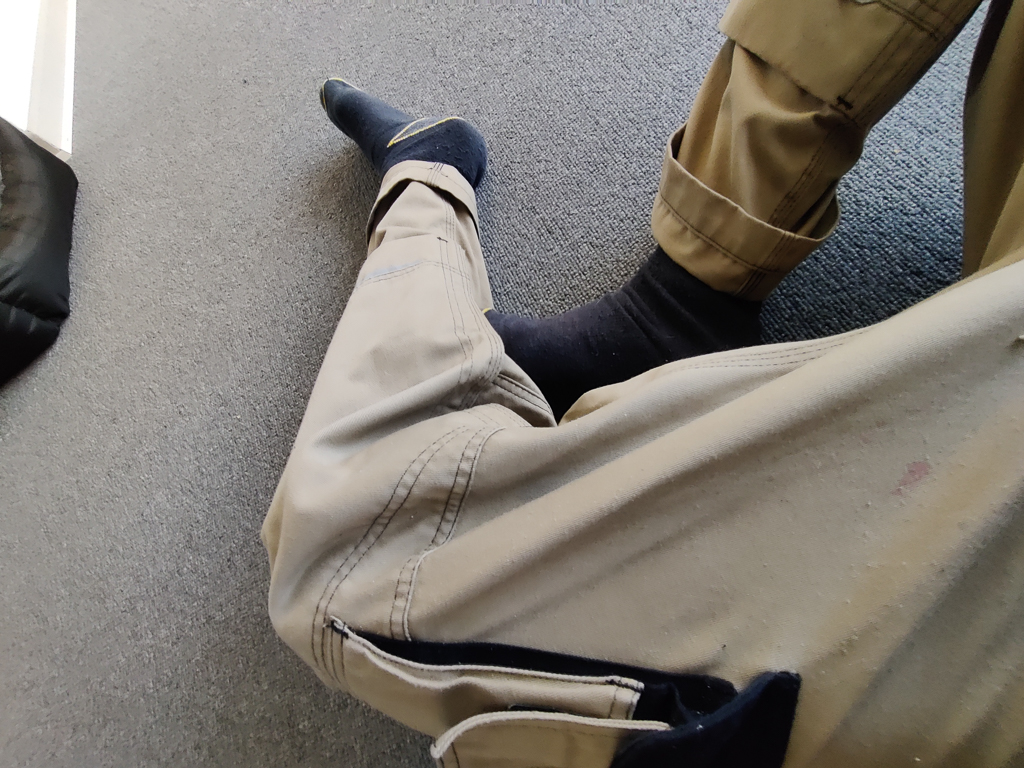Humanoid: (246, 0, 1024, 768)
